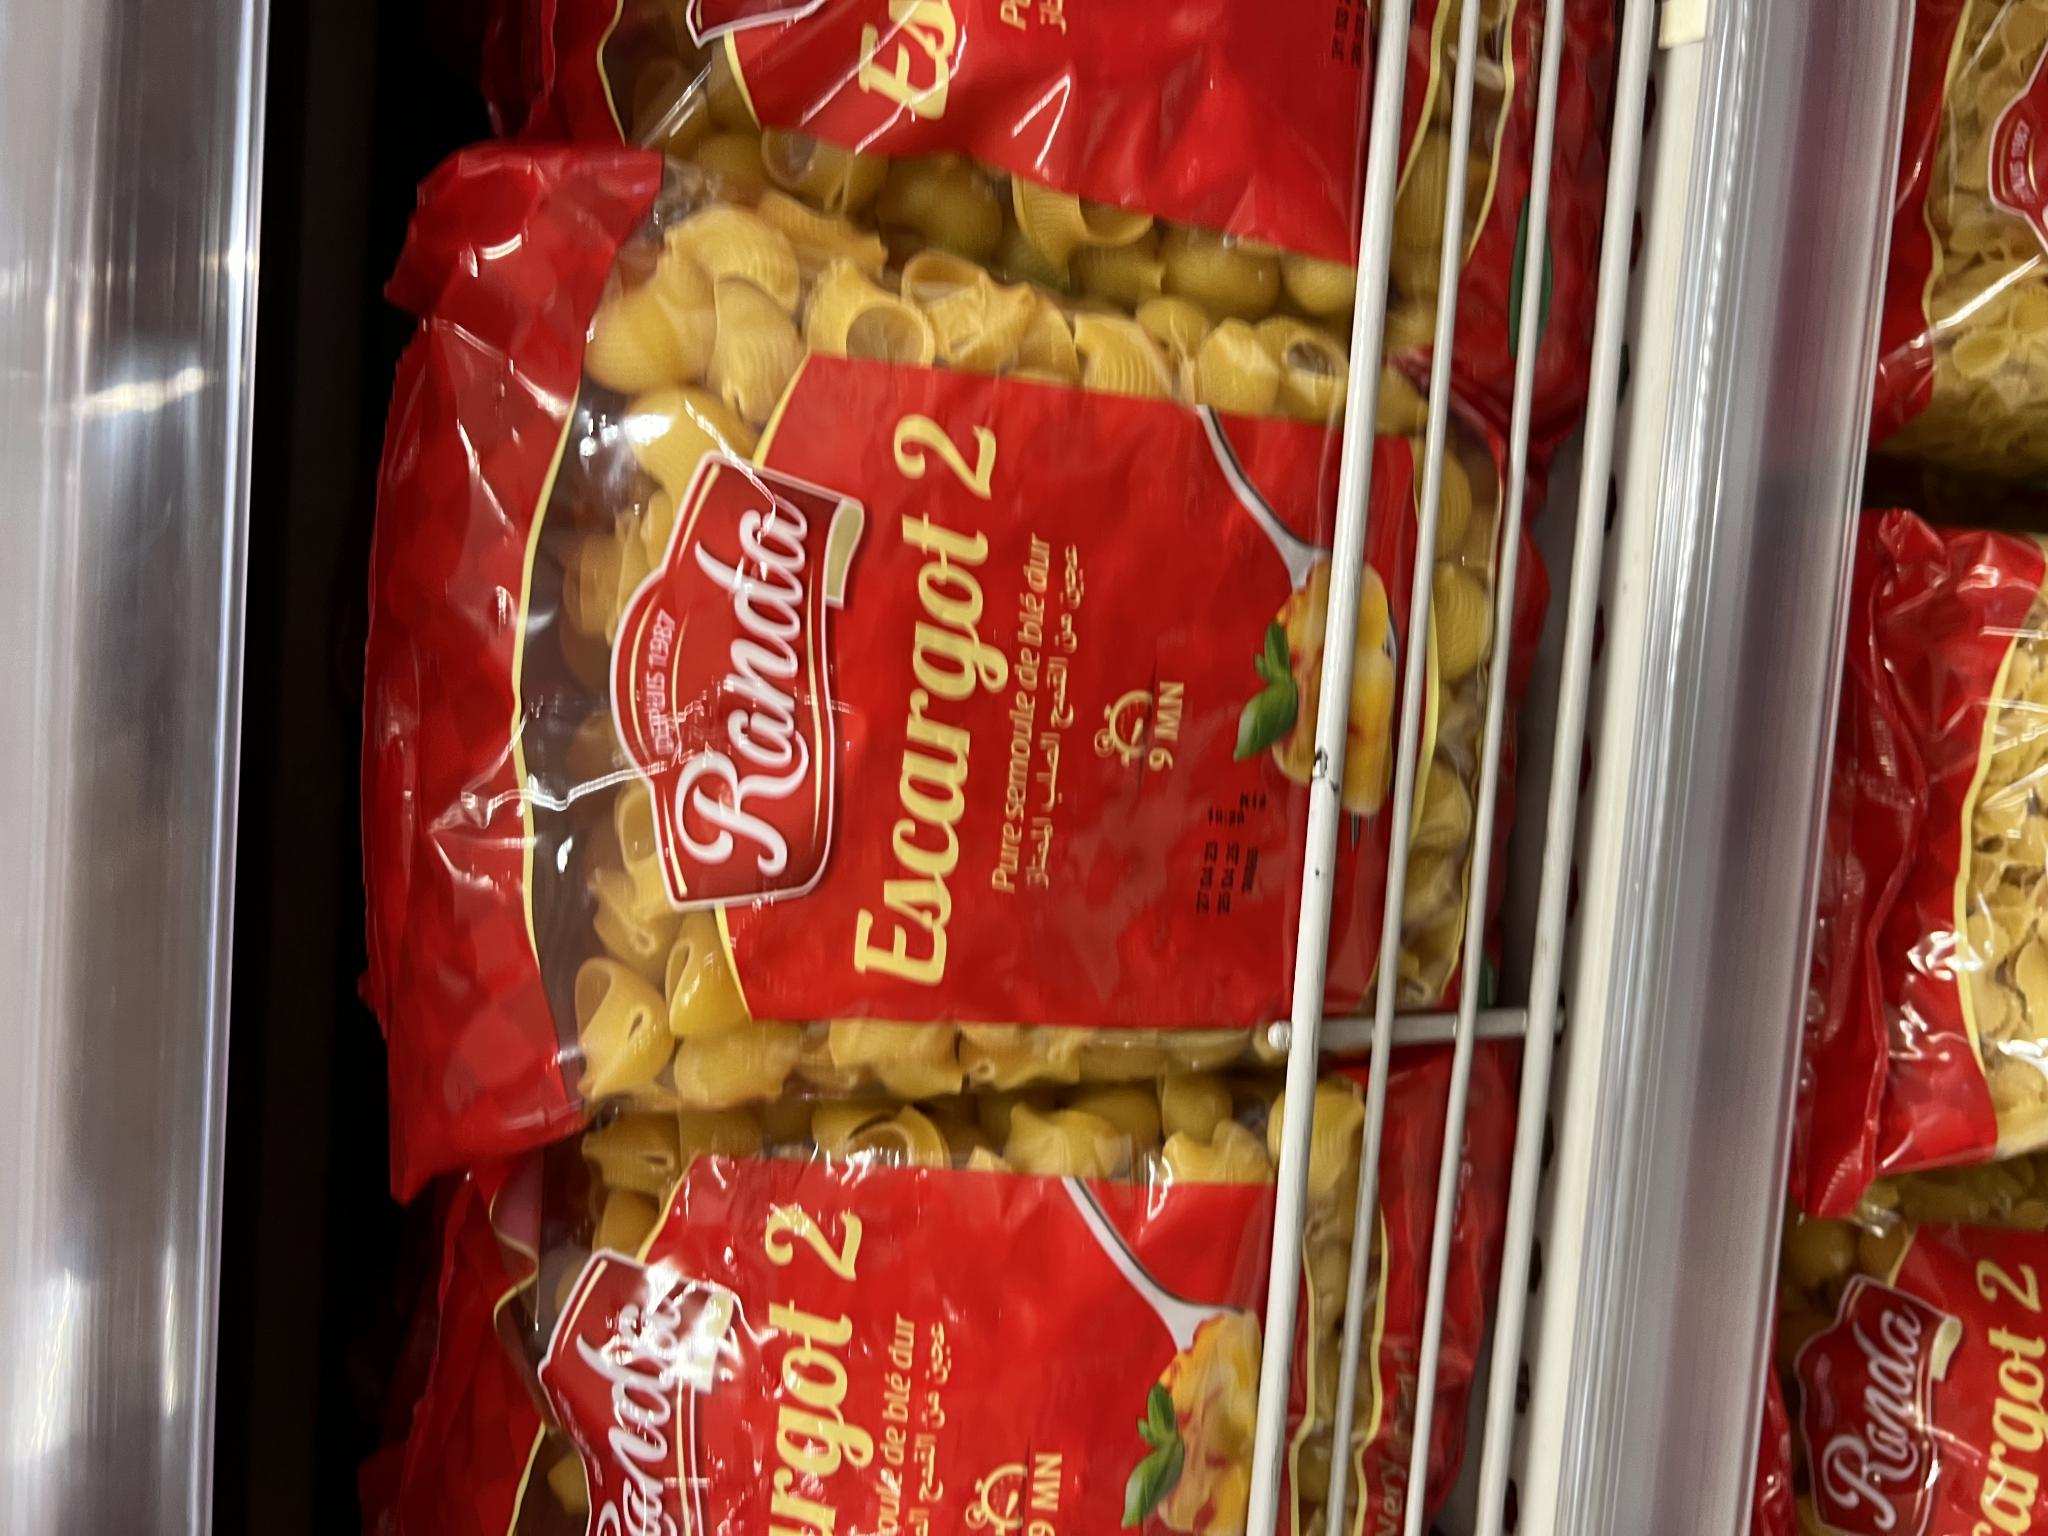Escargot: (376, 148, 1548, 1192), (377, 1054, 1488, 1536)
